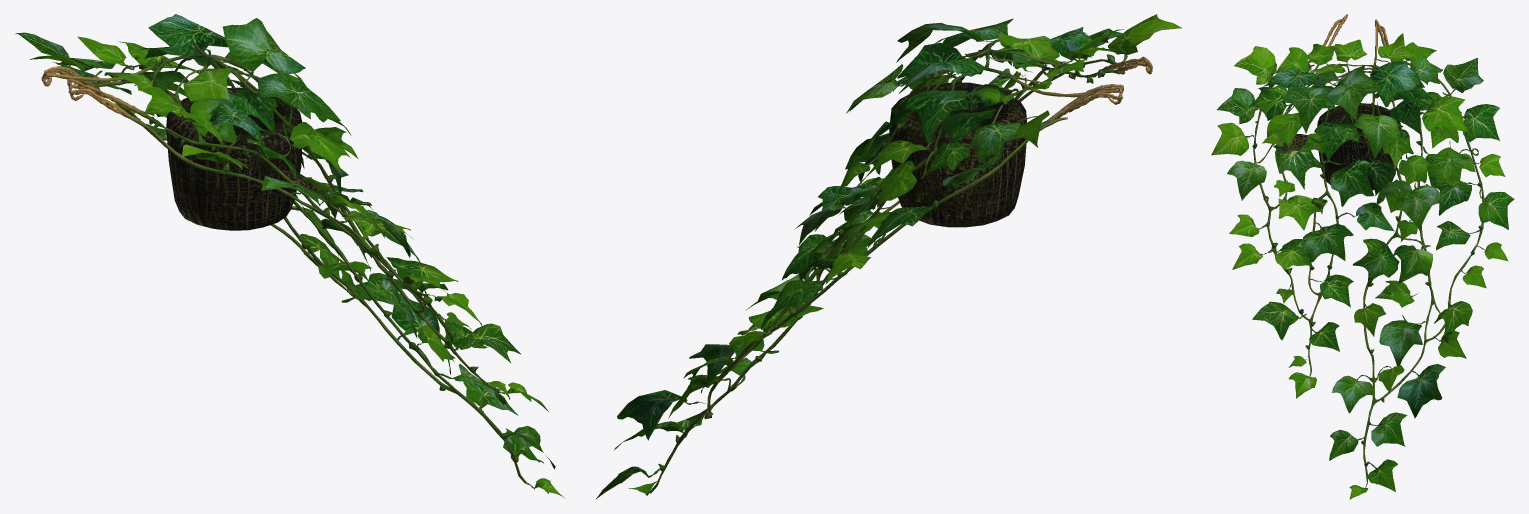
Rendered from ivy_vine.glb.
3 renders of one model, left to right at view 1: azimuth 30°, elevation 25°; view 2: azimuth 150°, elevation 25°; view 3: azimuth 270°, elevation 25°, orthographic. The views are drawn at different scales.
Parts seen in each view (by area): view 1: Object_4; view 2: Object_4; view 3: Object_4.
Boxes of the visible parts, x1,y1,x2,y2 form: Object_4: (15, 14, 564, 498); Object_4: (595, 14, 1181, 499); Object_4: (1211, 14, 1514, 499).
Size of the model in its own units: 0.9747 by 0.998 by 0.8183.
Materials: 1 (1 with a texture image).
